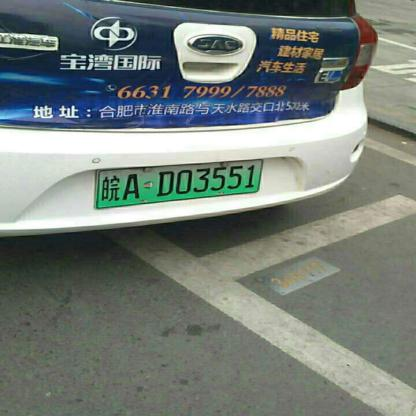lp: (95, 159, 263, 206)
